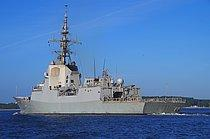MIL_Ship: (12, 37, 188, 117)
